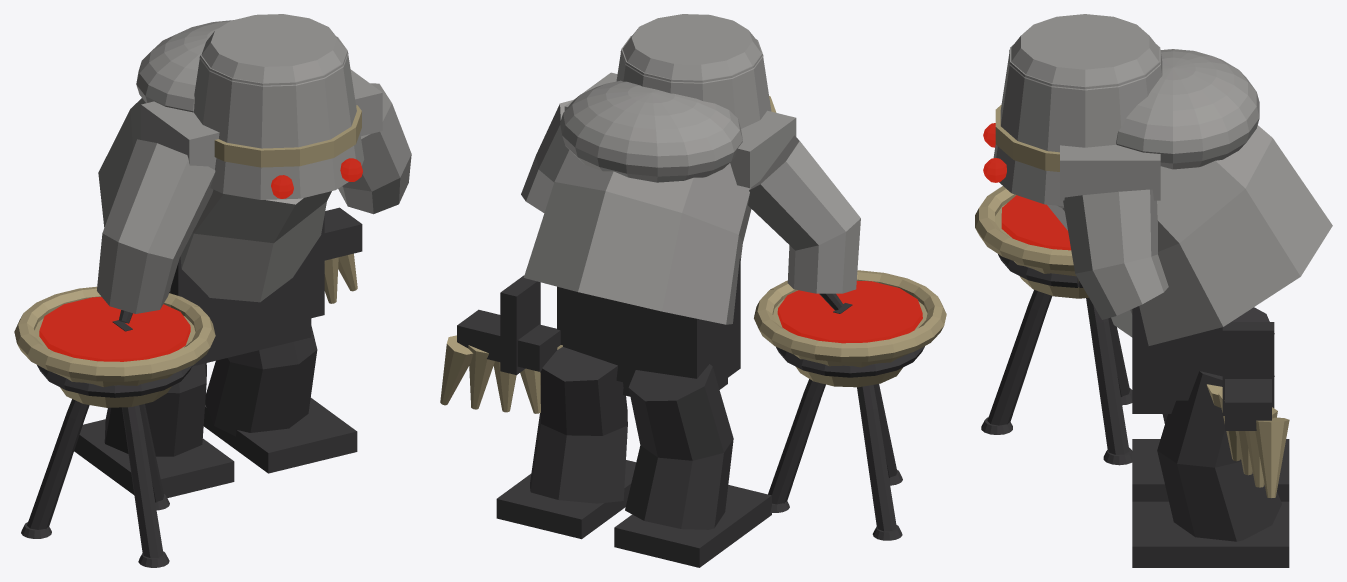
Rendered from leech.glb.
The picture shows the model from 3 angles, left to right: view 1: azimuth 30°, elevation 25°; view 2: azimuth 150°, elevation 25°; view 3: azimuth 270°, elevation 25°; orthographic projection. The views are drawn at different scales.
Visible parts, largest first — view 1: leech_body, leech_dark, leech_bone, leech_glow; view 2: leech_body, leech_dark, leech_bone, leech_glow; view 3: leech_body, leech_dark, leech_bone, leech_glow.
Part boxes in pixels (x1,y1,x2,y2): leech_body: [97, 14, 411, 313]; leech_dark: [21, 207, 362, 567]; leech_bone: [14, 105, 361, 407]; leech_glow: [39, 158, 362, 361]; leech_body: [521, 14, 860, 324]; leech_dark: [457, 258, 924, 567]; leech_bone: [440, 96, 946, 413]; leech_glow: [777, 281, 922, 343]; leech_body: [993, 14, 1332, 345]; leech_dark: [981, 254, 1289, 567]; leech_bone: [975, 104, 1289, 497]; leech_glow: [983, 123, 1070, 250].
Bounding box in the file's own units: 2.26 × 2.32 × 1.59.
